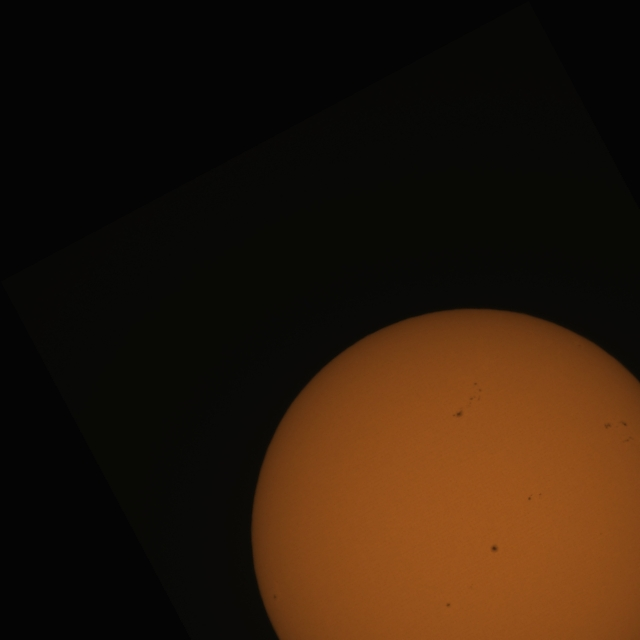sunspot: (604, 422, 633, 442), (470, 382, 483, 401), (604, 420, 628, 430), (528, 492, 542, 501), (452, 409, 464, 419), (622, 436, 634, 444), (490, 544, 499, 554), (619, 420, 628, 428), (272, 594, 278, 600), (446, 602, 452, 608), (538, 492, 542, 498), (528, 495, 532, 501)
